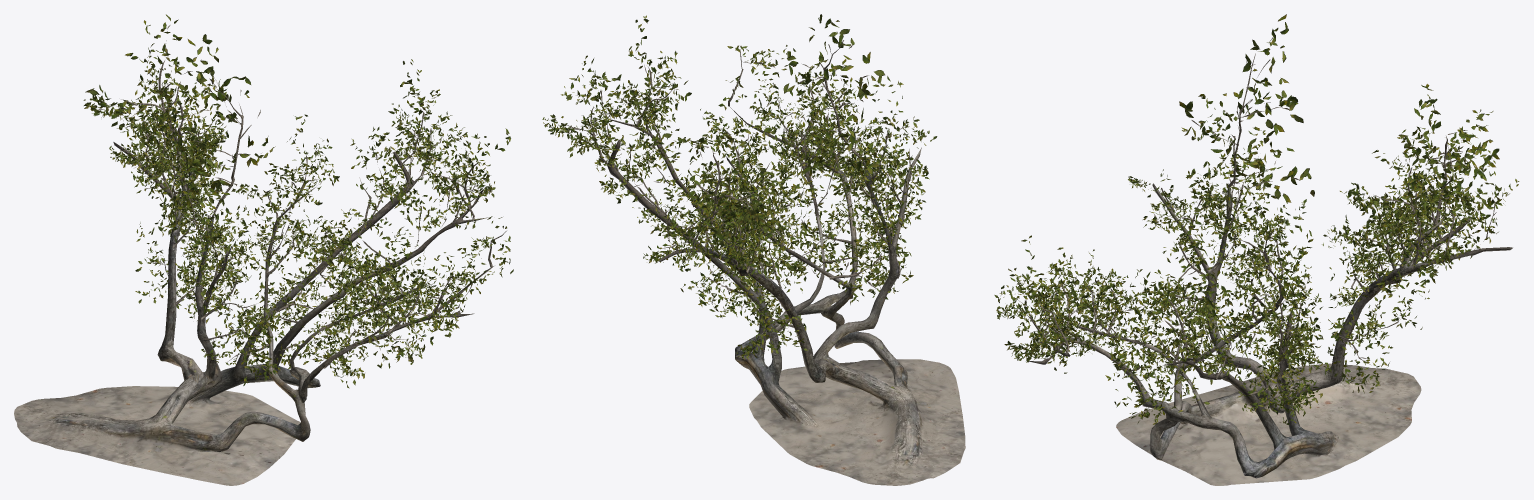
The model's file is island_tree_03.glb.
3 views of the same model, side by side, from view 1: azimuth 30°, elevation 25°; view 2: azimuth 150°, elevation 25°; view 3: azimuth 270°, elevation 25° (orthographic). The views are drawn at different scales.
Parts seen in each view (by area): view 1: island_tree_03_LOD0; view 2: island_tree_03_LOD0; view 3: island_tree_03_LOD0.
Boxes of the visible parts, x1=… form: island_tree_03_LOD0: x1=14, y1=14, x2=513, y2=485; island_tree_03_LOD0: x1=542, y1=14, x2=965, y2=485; island_tree_03_LOD0: x1=994, y1=14, x2=1519, y2=485.
Bounding box in the file's own units: 2.96 × 2.6 × 2.9.
3 materials, 3 textured.
